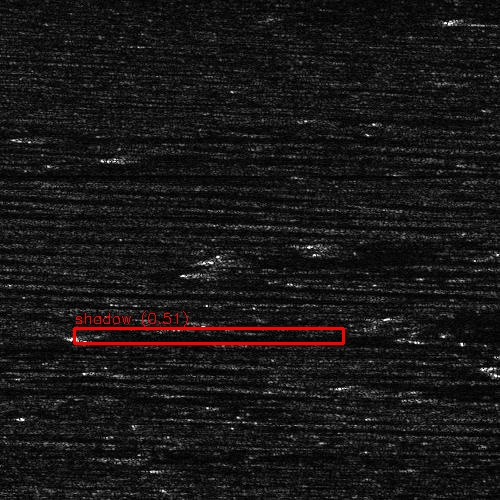rock: (84, 152, 177, 161), (61, 329, 124, 340), (23, 133, 96, 138), (202, 269, 233, 274)
shadow: (93, 329, 408, 340), (131, 152, 374, 161), (0, 382, 130, 397), (0, 139, 294, 144), (0, 172, 220, 177), (218, 269, 299, 274), (60, 133, 140, 138)
